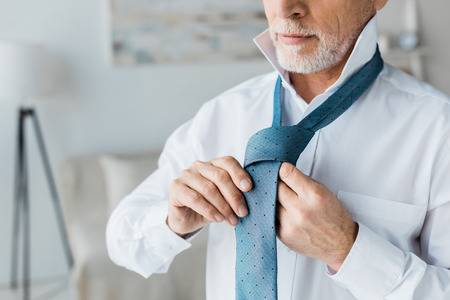F_shirt: (105, 19, 449, 300)
F_tie: (234, 86, 311, 300)
